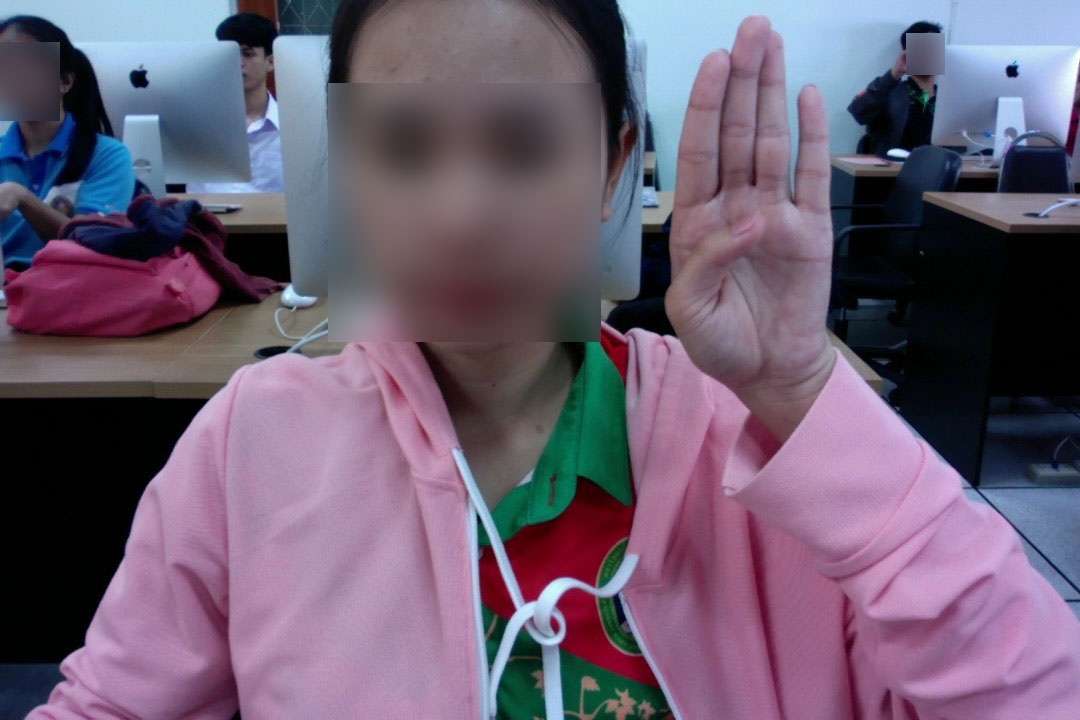bor: (655, 8, 839, 412)
